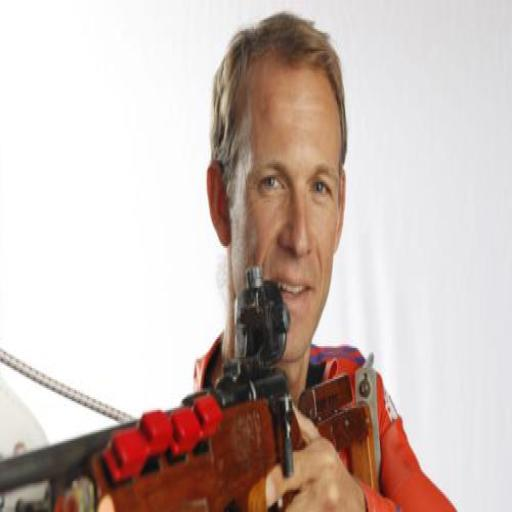shooting: (90, 11, 461, 510)
